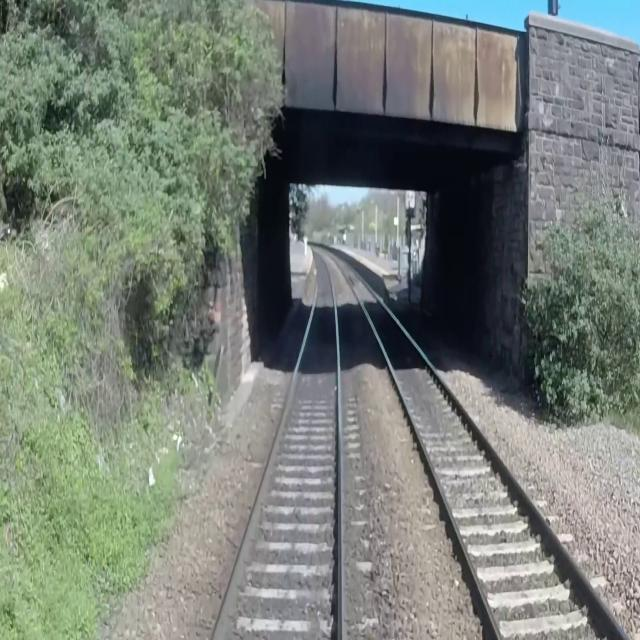rail-track: (331, 254, 623, 639), (218, 251, 339, 639)
